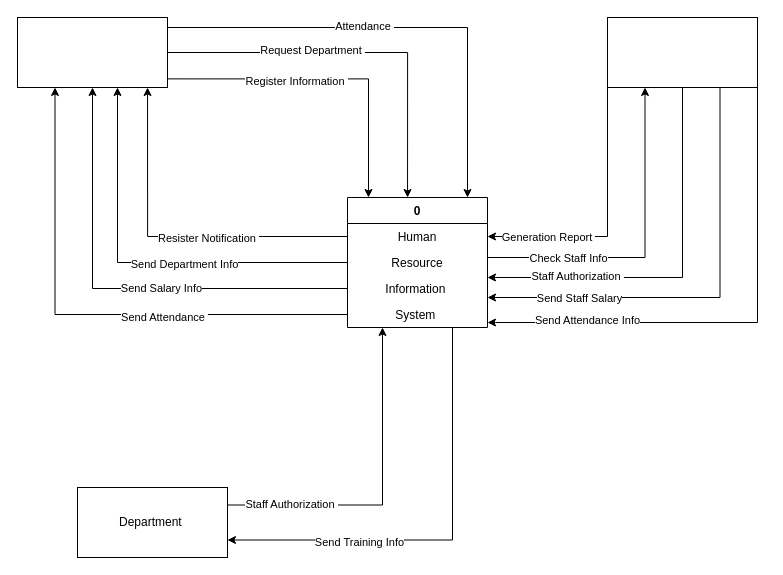
Image size: 783x575. Some labels were removed from this diagram. Here are the shapes that lost their labels. From the top down, the centre of each, then its label:
the point at 92,52: Staff
the point at 682,52: Manager
